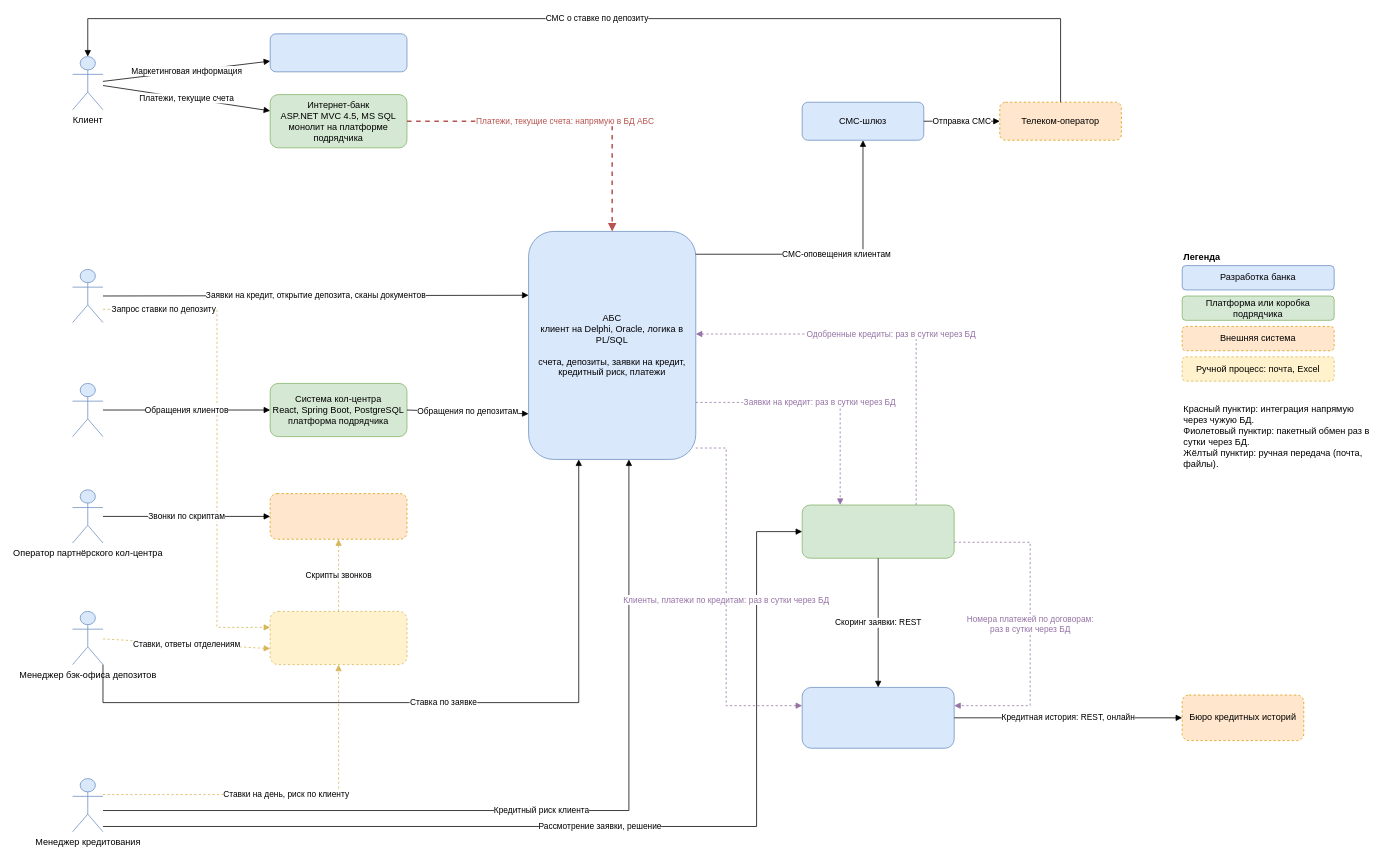
Image size: 1393x861. Some labels were removed from this diagram. The shapes that lost their labels are listed below. From the top down, each one's centre as x and y in pixels, then its label:
the point at 338,52: Сайт PHP, React
the point at 87,296: Менеджер отделения
the point at 87,410: Оператор кол-центра
the point at 338,516: Система партнёрского кол-центра
the point at 877,531: Кредитный конвейер Camunda (BPM), Oracle
the point at 338,638: Почта и Excel-файлы ставки, специальные ставки, скрипты звонков
the point at 877,717: Система кредитного скоринга Python, Flask, PostgreSQL, ML-модель
